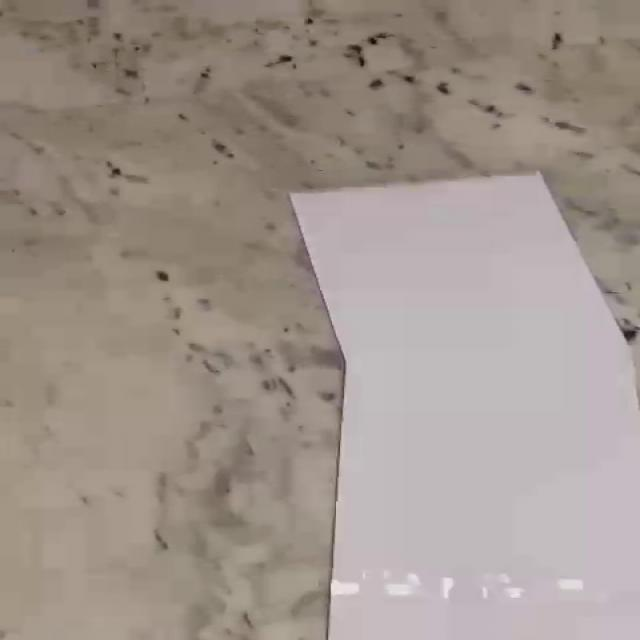road: (292, 176, 639, 640)
